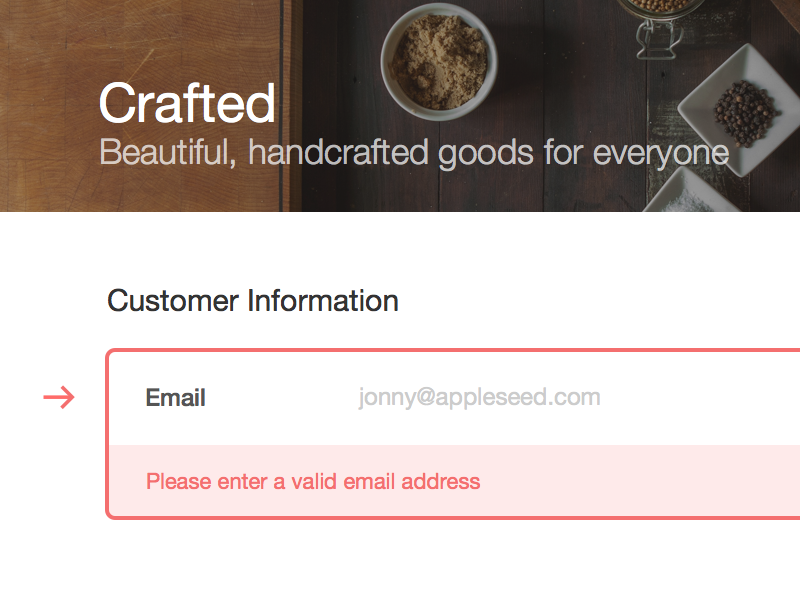error_message: (144, 471, 484, 494)
